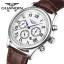watch: (1, 1, 58, 57)
